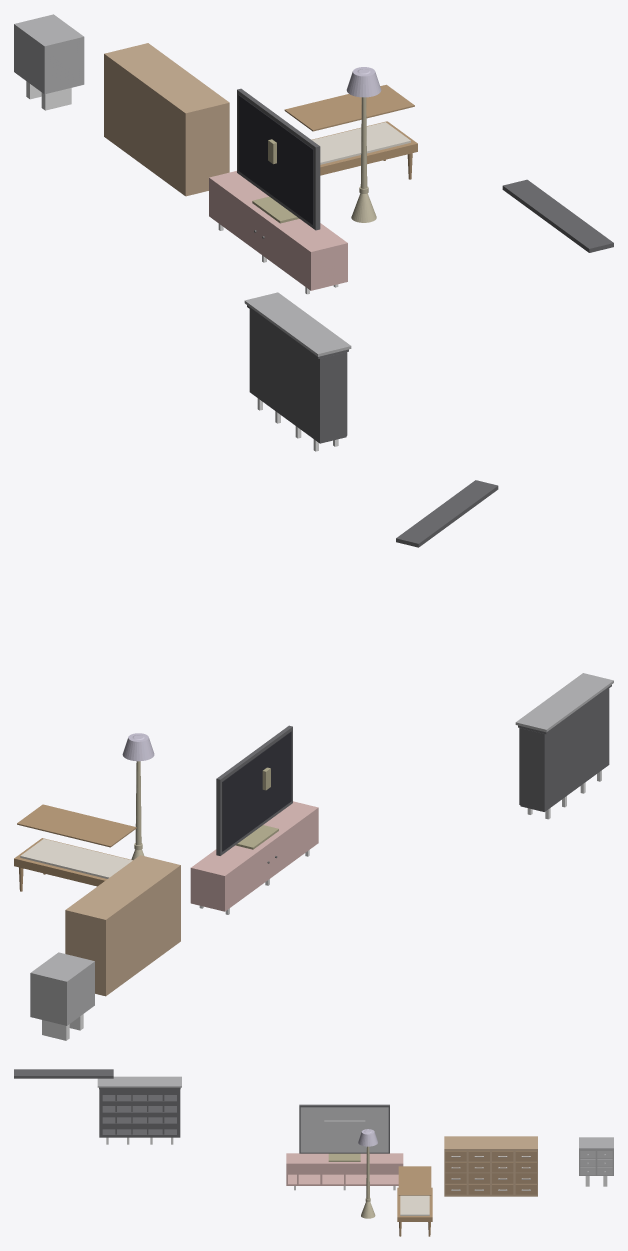
Rendered from agent_scene.glb.
3 renders of one model, top to bottom at view 1: azimuth 30°, elevation 25°; view 2: azimuth 150°, elevation 25°; view 3: azimuth 270°, elevation 25°, orthographic. The views are drawn at different scales.
Parts seen in each view (by area): view 1: dr_body, sh_back, tv_screen, ns_body, con_back, ct_rim, sh_cap, float_shelf, sh_sideL, con_top, ct_top, tv_panel (+4 smaller); view 2: dr_body, sh_back, tv_screen, ns_body, con_back, ct_rim, sh_cap, ct_top, float_shelf, con_top, sh_sideR, tv_panel (+2 smaller); view 3: tv_back, dr_body, con_bot, con_top, con_back, ct_rim, tv_bump, float_shelf, sh_back, sh_cap, ns_body, tv_panel (+11 smaller).
Part boxes in pixels (box(x1,y1,x2,y2)): dr_body: box(104, 43, 229, 196); sh_back: box(250, 310, 318, 441); tv_screen: box(238, 95, 313, 225); ns_body: box(14, 14, 84, 94); con_back: box(209, 177, 312, 290); ct_rim: box(284, 84, 414, 131); sh_cap: box(244, 292, 351, 356); float_shelf: box(502, 179, 613, 252); sh_sideL: box(318, 352, 346, 443); con_top: box(210, 171, 347, 253); ct_top: box(312, 122, 410, 164); tv_panel: box(237, 88, 320, 230); dr_body: box(65, 855, 180, 996); sh_back: box(545, 689, 608, 811); tv_screen: box(222, 731, 291, 851); ns_body: box(30, 952, 94, 1025); con_back: box(222, 808, 318, 910); ct_rim: box(17, 804, 136, 847); sh_cap: box(515, 673, 613, 732); ct_top: box(20, 839, 132, 878); float_shelf: box(396, 480, 498, 547); con_top: box(190, 801, 318, 878); sh_sideR: box(520, 728, 545, 811); tv_panel: box(216, 725, 292, 855); tv_back: box(300, 1107, 388, 1152); dr_body: box(444, 1136, 537, 1196); con_bot: box(286, 1174, 398, 1185); con_top: box(286, 1153, 403, 1165); con_back: box(286, 1153, 403, 1174); ct_rim: box(398, 1166, 431, 1195); tv_bump: box(324, 1120, 365, 1145); float_shelf: box(14, 1069, 113, 1078); sh_back: box(102, 1091, 176, 1129); sh_cap: box(97, 1076, 181, 1087); ns_body: box(579, 1137, 613, 1175); tv_panel: box(299, 1104, 389, 1153).
Size of the model in its own units: 4.09 by 2.32 by 10.25.
